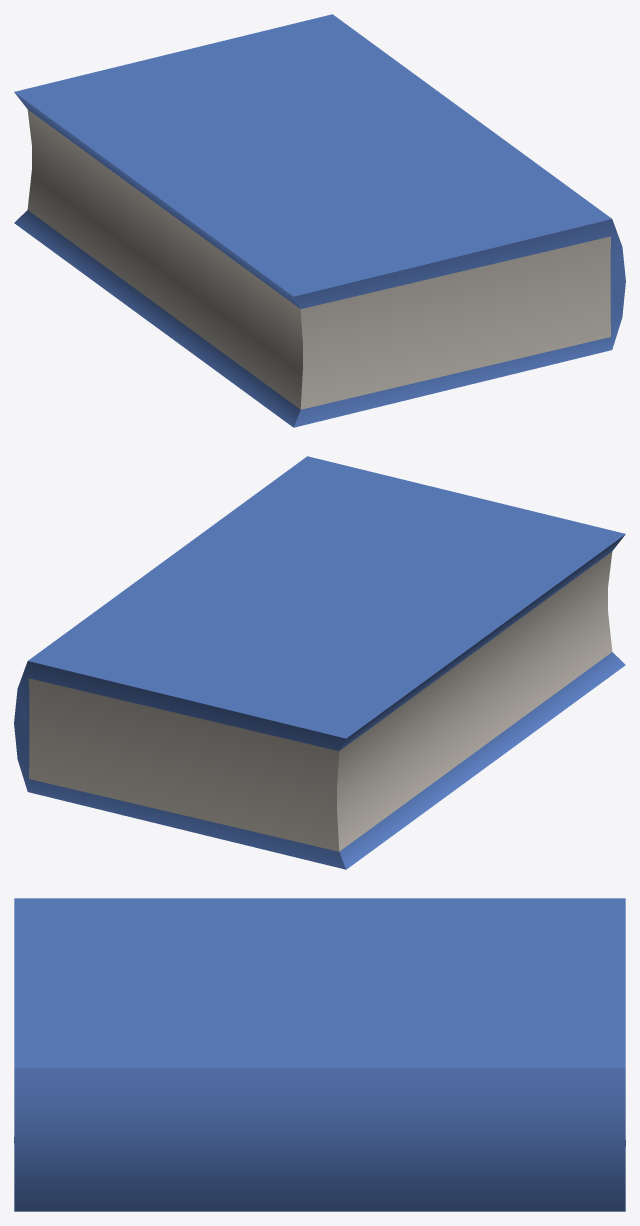
Rendered from Book2.fbx.
3 views of the same model, one above another, from view 1: azimuth 30°, elevation 25°; view 2: azimuth 150°, elevation 25°; view 3: azimuth 270°, elevation 25° (orthographic). The views are drawn at different scales.
Visible parts, largest first — view 1: pCube2; view 2: pCube2; view 3: pCube2.
Part boxes in pixels (x1=…): pCube2: x1=14, y1=14, x2=625, y2=427; pCube2: x1=14, y1=456, x2=625, y2=869; pCube2: x1=14, y1=898, x2=625, y2=1211.
Size of the model in its own units: 5.15 by 1.94 by 7.53.
